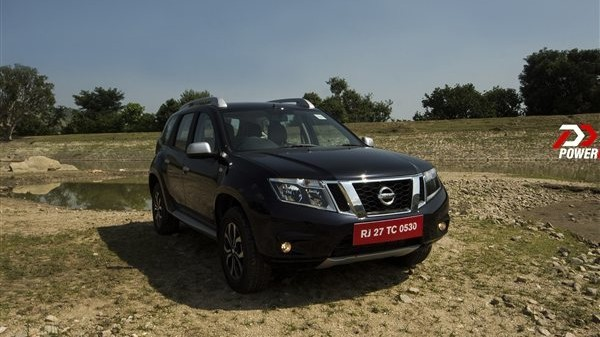number_plate: (347, 215, 432, 246)
